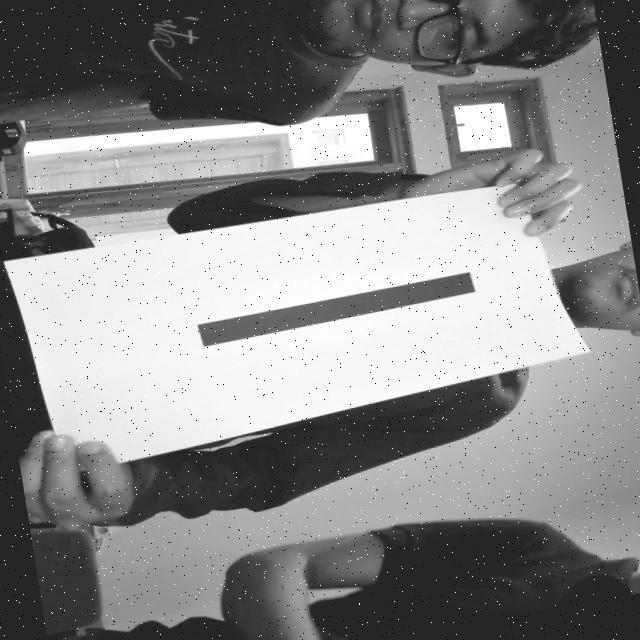i: (158, 252, 496, 364)
